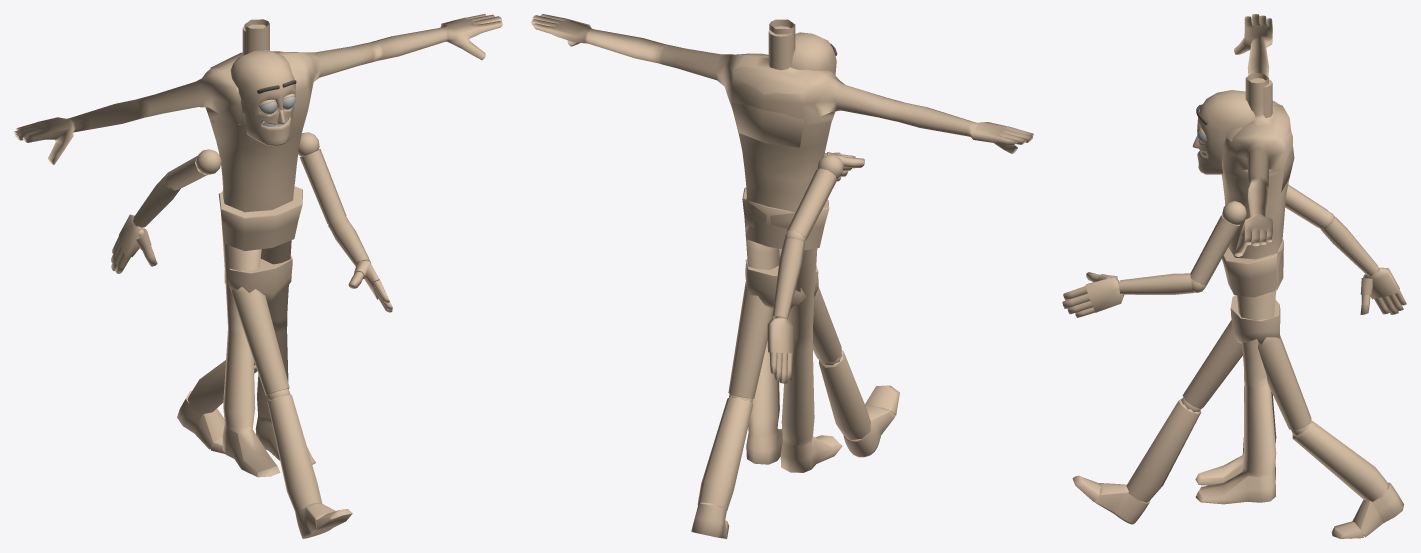
File: Max WalkCycle V13.fbx
3 renders of one model, left to right at view 1: azimuth 30°, elevation 25°; view 2: azimuth 150°, elevation 25°; view 3: azimuth 270°, elevation 25°, orthographic. The views are drawn at different scales.
Parts seen in each view (by area): view 1: bodySkin_Geo, head_Geo, dummyLowerLegR_Geo, dummyUpperLegR_Geo, dummySpine2_Geo, dummyOverArmL_Geo, dummyHip_Geo, dummyLowerLegL_Geo, dummyAnkleL_Geo, dummyOverArmR_Geo, dummyUnderArmR_Geo, dummyUnderArmL_Geo (+2 smaller); view 2: bodySkin_Geo, dummyTorso_Geo, dummyLowerLegL_Geo, dummyUpperLegL_Geo, dummyLowerLegR_Geo, dummyOverArmR_Geo, dummyUnderArmR_Geo, dummySpine2_Geo, dummyUpperLegR_Geo, head_Geo, dummyHip_Geo, dummyAnkleR_Geo (+4 smaller); view 3: bodySkin_Geo, dummyLowerLegR_Geo, dummyLowerLegL_Geo, head_Geo, dummyUpperLegL_Geo, dummyUpperLegR_Geo, dummySpine2_Geo, dummyOverArmL_Geo, dummyUnderArmL_Geo, dummyAnkleL_Geo, dummyUnderArmR_Geo, dummyHip_Geo (+7 smaller).
Boxes of the visible parts, x1,y1,x2,y2 form: bodySkin_Geo: (14, 14, 502, 477); head_Geo: (230, 50, 295, 146); dummyLowerLegR_Geo: (267, 393, 322, 510); dummyUpperLegR_Geo: (232, 287, 289, 400); dummySpine2_Geo: (218, 186, 302, 250); dummyOverArmL_Geo: (298, 132, 346, 223); dummyHip_Geo: (224, 254, 292, 302); dummyLowerLegL_Geo: (187, 360, 257, 415); dummyAnkleL_Geo: (177, 391, 224, 449); dummyOverArmR_Geo: (166, 149, 221, 189); dummyUnderArmR_Geo: (133, 172, 180, 227); dummyUnderArmL_Geo: (328, 216, 370, 266); bodySkin_Geo: (531, 14, 1033, 472); dummyTorso_Geo: (732, 53, 807, 147); dummyLowerLegL_Geo: (697, 396, 753, 510); dummyUpperLegL_Geo: (728, 281, 773, 402); dummyLowerLegR_Geo: (819, 350, 870, 440); dummyOverArmR_Geo: (786, 154, 843, 240); dummyUnderArmR_Geo: (772, 230, 805, 319); dummySpine2_Geo: (742, 187, 829, 250); dummyUpperLegR_Geo: (812, 287, 842, 365); head_Geo: (790, 32, 836, 75); dummyHip_Geo: (745, 259, 818, 310); dummyAnkleR_Geo: (843, 405, 895, 457); bodySkin_Geo: (1195, 14, 1292, 504); dummyLowerLegR_Geo: (1126, 398, 1201, 502); dummyLowerLegL_Geo: (1292, 420, 1387, 501); head_Geo: (1197, 90, 1255, 174); dummyUpperLegL_Geo: (1258, 335, 1311, 435); dummyUpperLegR_Geo: (1181, 320, 1242, 412); dummySpine2_Geo: (1222, 239, 1283, 297); dummyOverArmL_Geo: (1190, 201, 1246, 285); dummyUnderArmL_Geo: (1119, 273, 1205, 294); dummyAnkleL_Geo: (1352, 482, 1403, 537); dummyUnderArmR_Geo: (1318, 211, 1378, 276); dummyHip_Geo: (1230, 295, 1280, 344).
Bounding box in the file's own units: 207 × 190 × 132.
